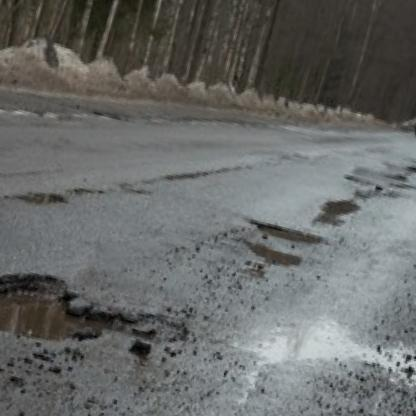pothole: (0, 238, 193, 375)
